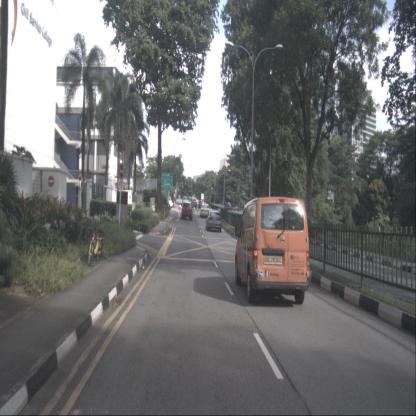vehicle-bicycle: (87, 224, 103, 267)
vehicle-car: (235, 196, 310, 303), (206, 210, 222, 232), (181, 202, 193, 220), (199, 204, 209, 218), (224, 202, 232, 210), (190, 199, 197, 208), (198, 200, 203, 209)
